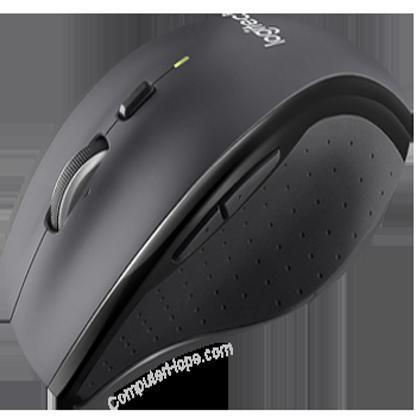not trash: (4, 16, 414, 401)
